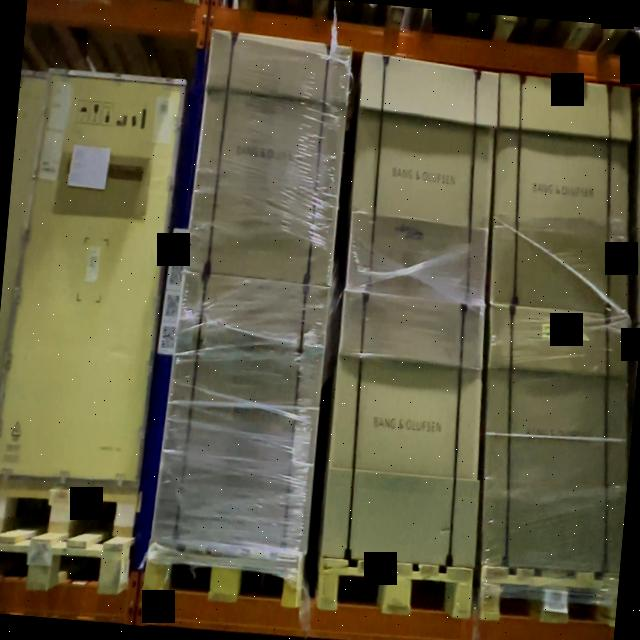box: (161, 284, 326, 552), (324, 298, 484, 563), (194, 34, 352, 288), (349, 61, 498, 300), (489, 80, 636, 310)
